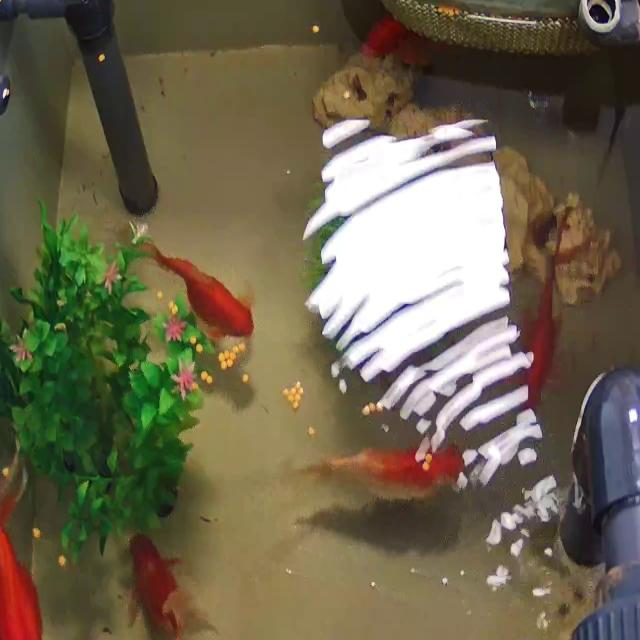fish: (131, 220, 268, 353), (295, 427, 461, 513), (0, 440, 70, 640), (112, 518, 213, 640), (516, 224, 566, 434), (334, 10, 455, 70)
